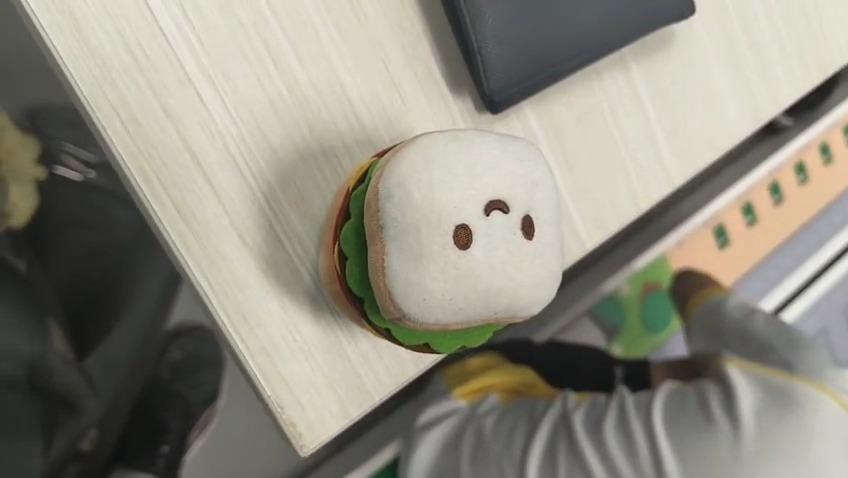objects: (322, 128, 573, 356)
